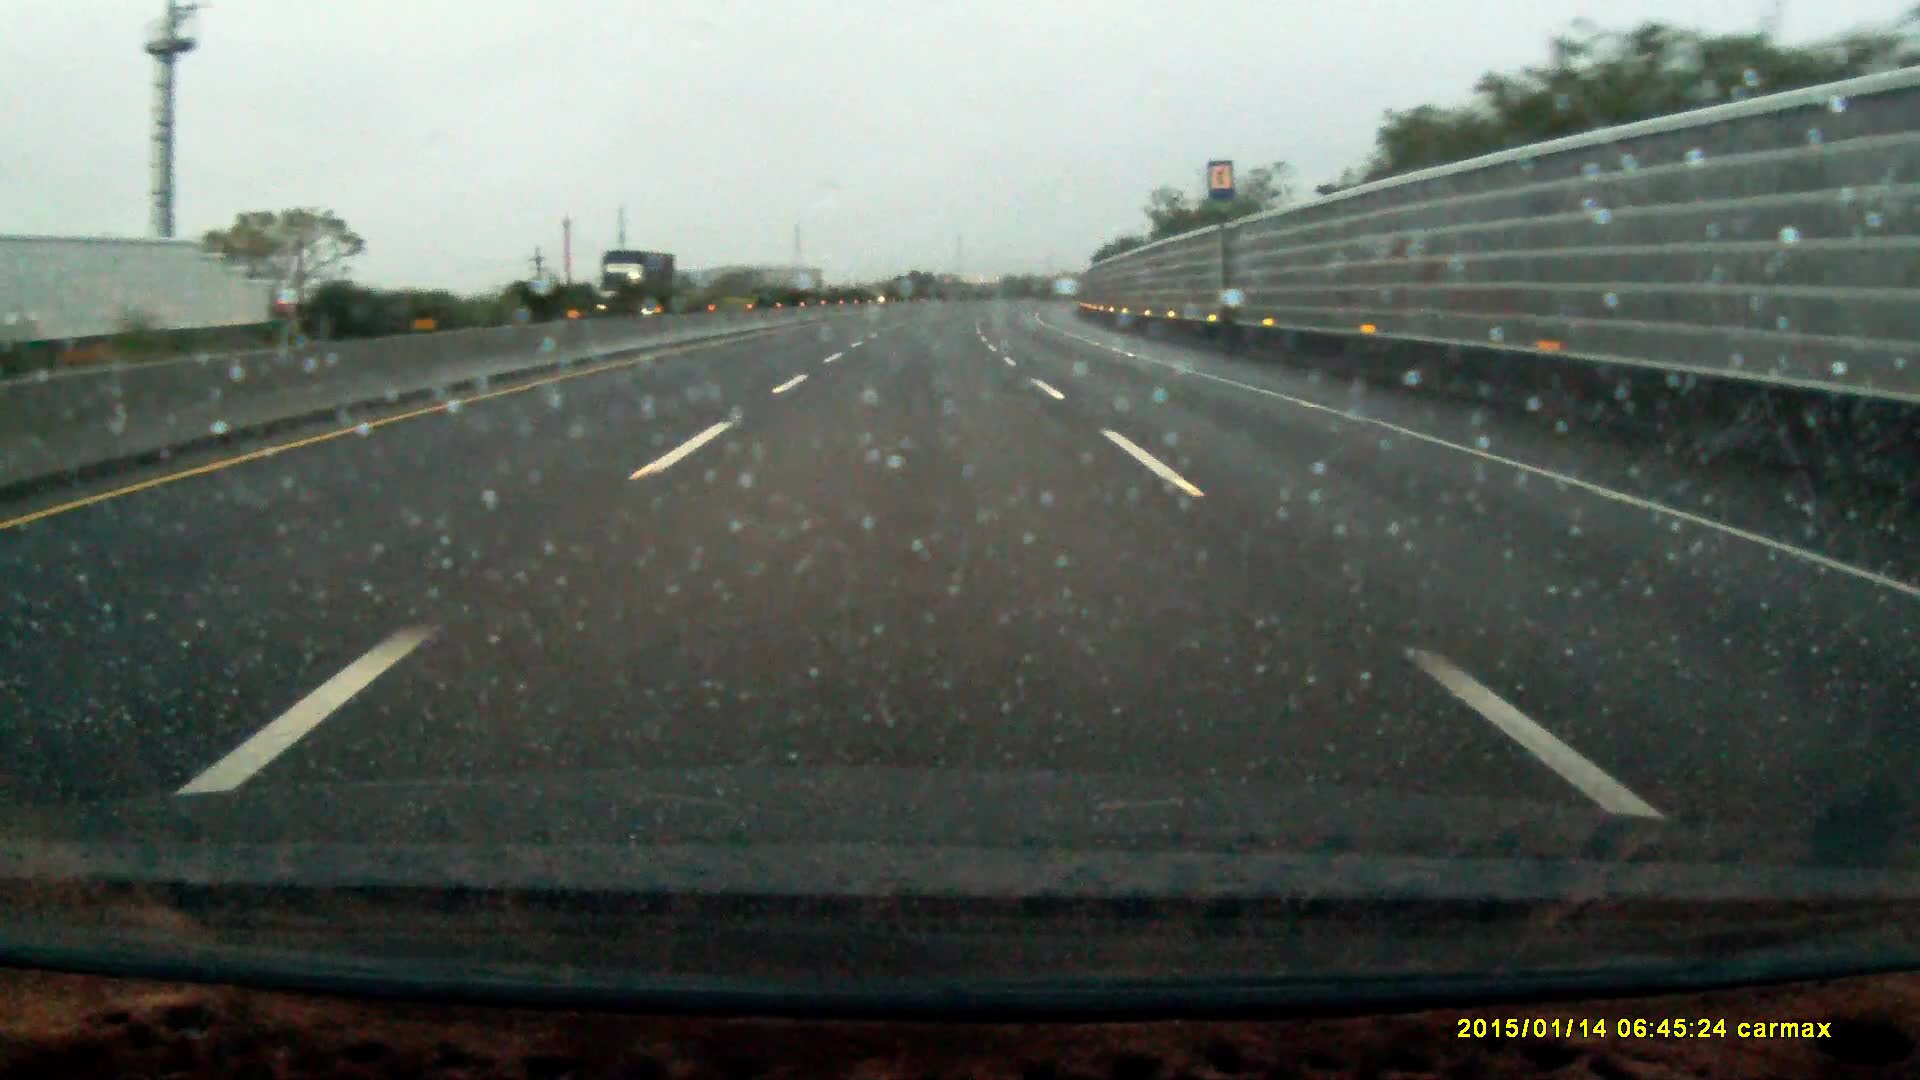vehicle: (600, 247, 680, 313)
